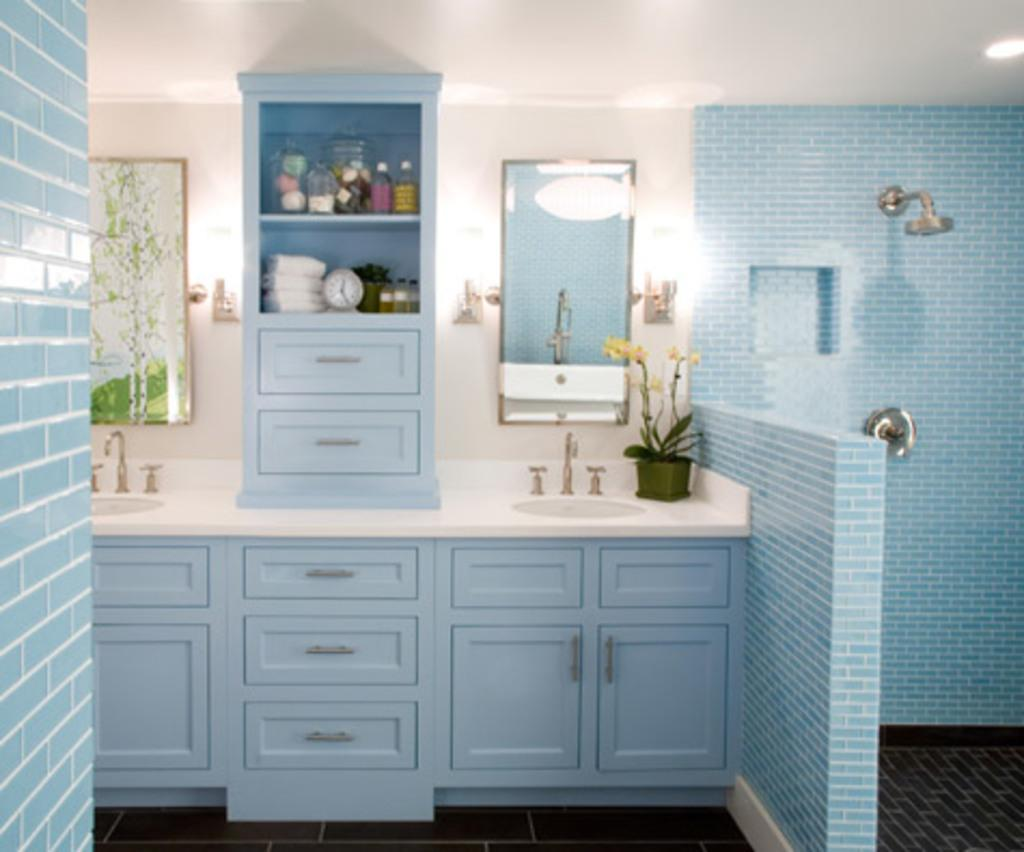cabinet_door: (448, 627, 582, 763), (604, 629, 723, 766), (92, 626, 206, 761), (257, 620, 408, 692), (258, 706, 404, 770), (268, 413, 415, 472), (262, 335, 410, 388), (253, 552, 407, 602)
handle: (306, 729, 354, 753), (306, 641, 356, 658), (562, 632, 582, 674), (316, 352, 358, 372), (601, 638, 617, 684), (310, 569, 356, 584), (322, 435, 362, 452)
